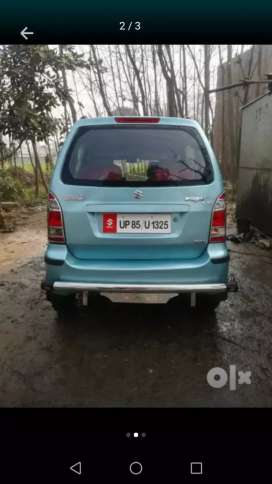license_plate: (100, 212, 180, 236)
